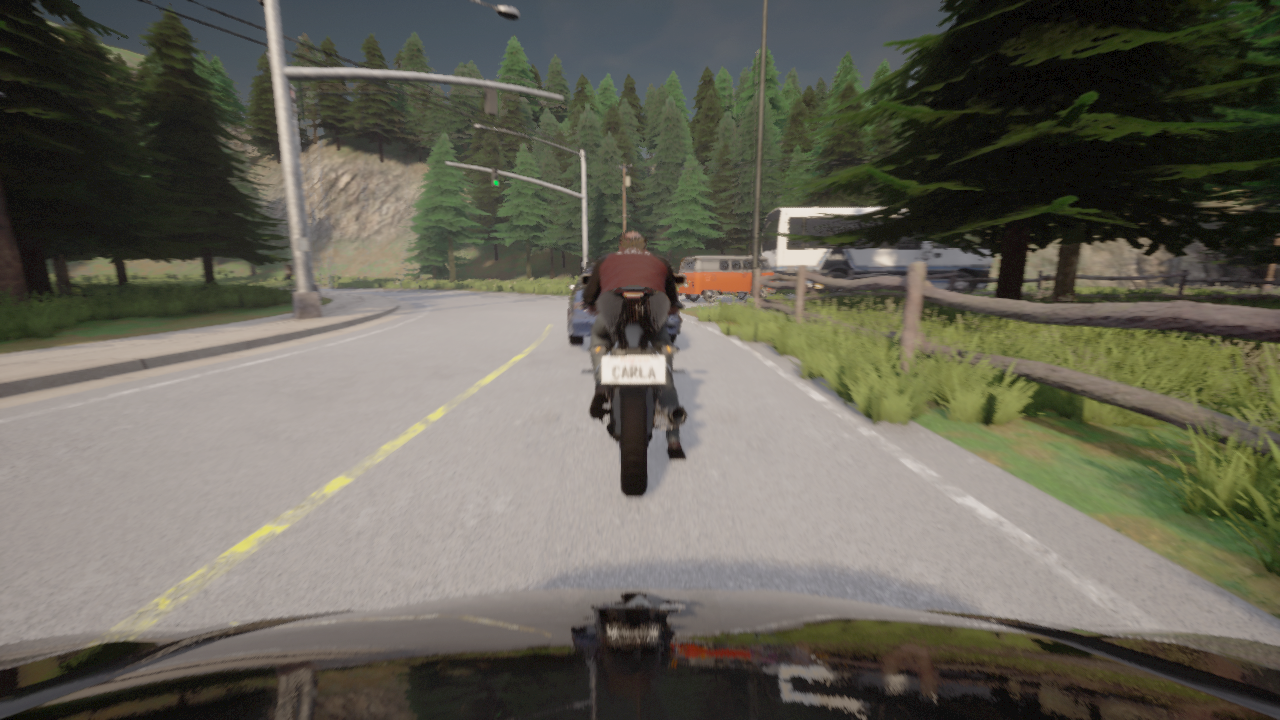cyclist: (0, 588, 1279, 719), (580, 274, 687, 496), (761, 207, 991, 294), (568, 263, 681, 344), (677, 256, 775, 302)
pedestrian: (284, 262, 293, 291)
